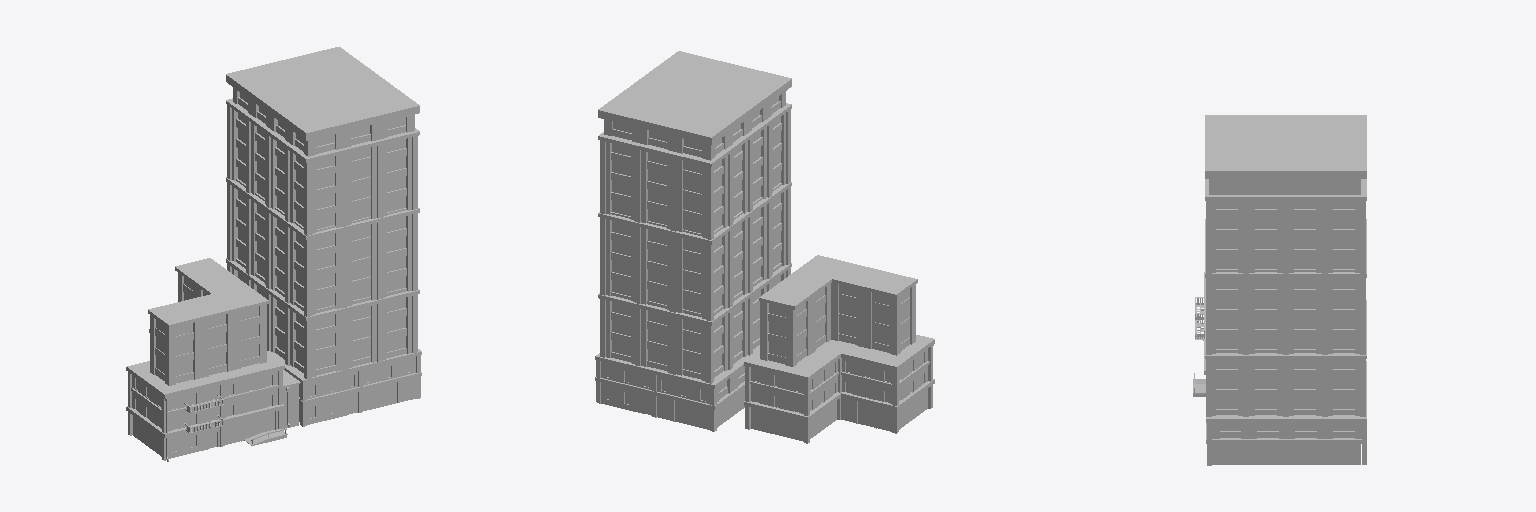
File: building.obj
3 renders of one model, left to right at view 1: azimuth 30°, elevation 25°; view 2: azimuth 150°, elevation 25°; view 3: azimuth 270°, elevation 25°, orthographic.
Visible parts, largest first — view 1: building.001; view 2: building.001; view 3: building.001.
Boxes of the visible parts, <box> form: building.001: <box>126,47,421,461</box>; building.001: <box>595,51,934,443</box>; building.001: <box>1193,115,1366,465</box>.
Size of the model in its own units: 2.96 by 3.22 by 1.73.